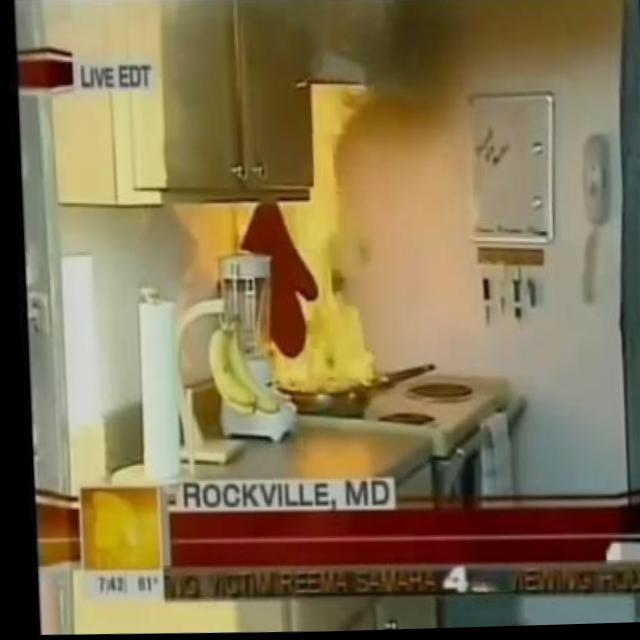fire: (238, 81, 403, 400)
